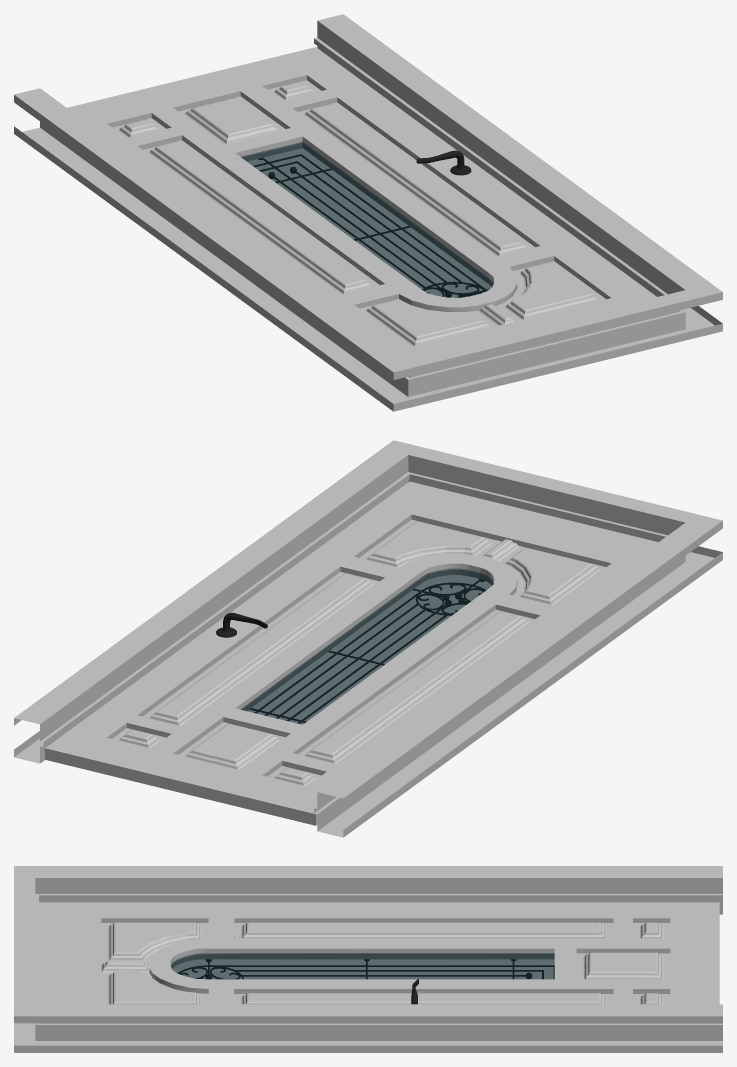
The model's file is Door_Standart.obj.
The picture shows the model from 3 angles, top to bottom: view 1: azimuth 30°, elevation 25°; view 2: azimuth 150°, elevation 25°; view 3: azimuth 270°, elevation 25°; orthographic projection. The views are drawn at different scales.
Visible parts, largest first — view 1: Door_pivo5, Door_box_p, Glass_chr7; view 2: Door_pivo5, Door_box_p, Glass_chr7; view 3: Door_box_p, Door_pivo5, Glass_chr7.
Boxes of the visible parts, x1,y1,x2,y2 form: Door_pivo5: (67, 47, 656, 357); Door_box_p: (14, 14, 722, 411); Glass_chr7: (241, 141, 493, 297); Door_pivo5: (45, 481, 658, 825); Door_box_p: (14, 440, 722, 837); Glass_chr7: (216, 568, 493, 724); Door_box_p: (14, 866, 722, 1052); Door_pivo5: (39, 902, 719, 1004); Glass_chr7: (171, 953, 554, 1004).
Size of the model in its own units: 101 by 16.81 by 201.
